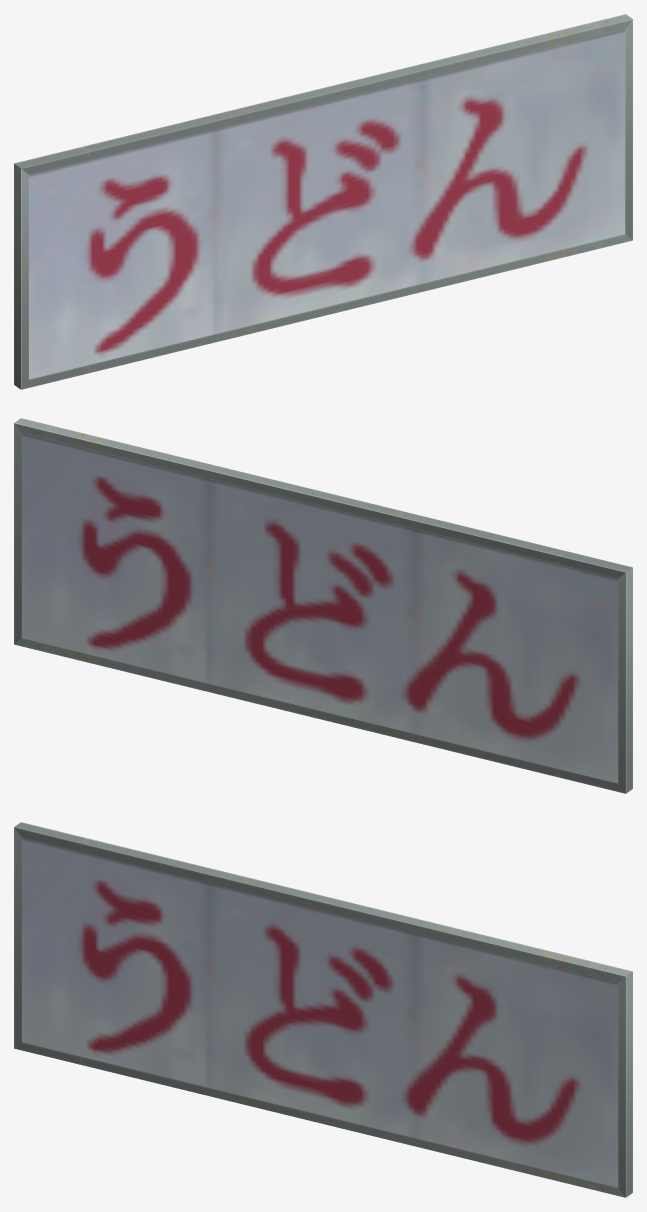
File: shopboard06b.fbx
3 renders of one model, top to bottom at view 1: azimuth 30°, elevation 25°; view 2: azimuth 150°, elevation 25°; view 3: azimuth 330°, elevation 25°, orthographic.
Visible parts, largest first — view 1: shopboard06b; view 2: shopboard06b; view 3: shopboard06b.
Part boxes in pixels (x1,y1,x2,y2): shopboard06b: (14,14,632,389); shopboard06b: (14,418,632,793); shopboard06b: (14,822,632,1197).
Size of the model in its own units: 126 by 43.39 by 2.51.
